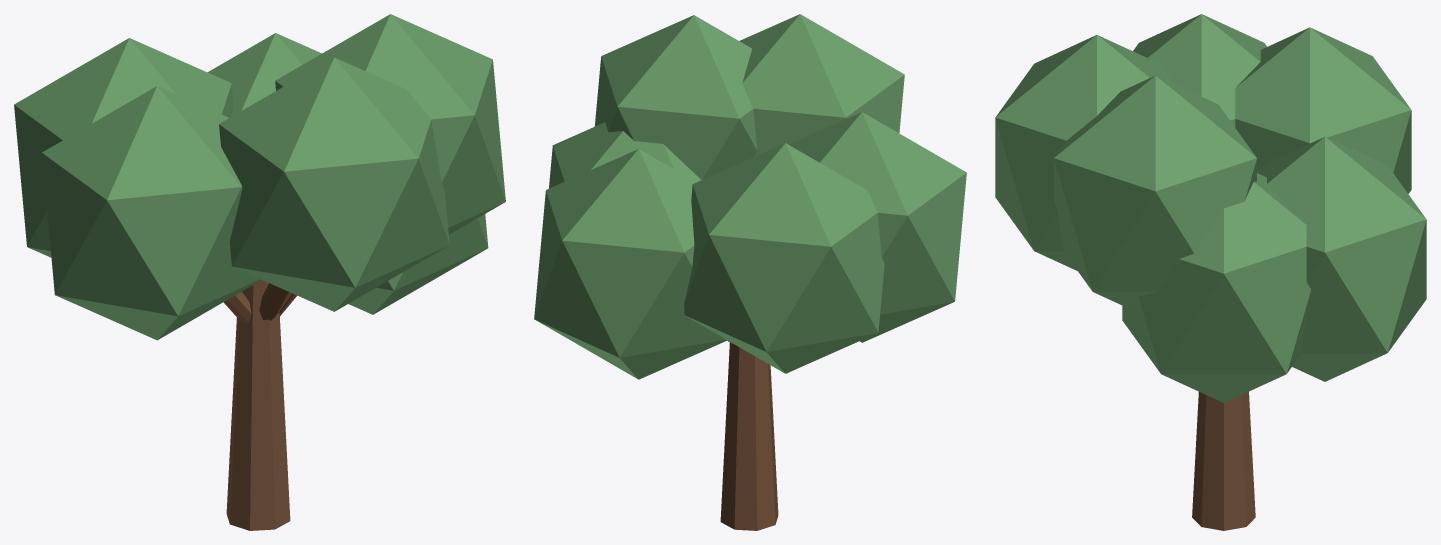
File: nature_oak.glb
3 renders of one model, left to right at view 1: azimuth 30°, elevation 25°; view 2: azimuth 150°, elevation 25°; view 3: azimuth 270°, elevation 25°, orthographic. The views are drawn at different scales.
Visible parts, largest first — view 1: nature_oak; view 2: nature_oak; view 3: nature_oak.
Boxes of the visible parts, left/top/right/bottom form: nature_oak: left=14, top=14, right=505, bottom=530; nature_oak: left=534, top=14, right=966, bottom=530; nature_oak: left=995, top=14, right=1426, bottom=530.
Size of the model in its own units: 3.02 by 3.38 by 2.71.
